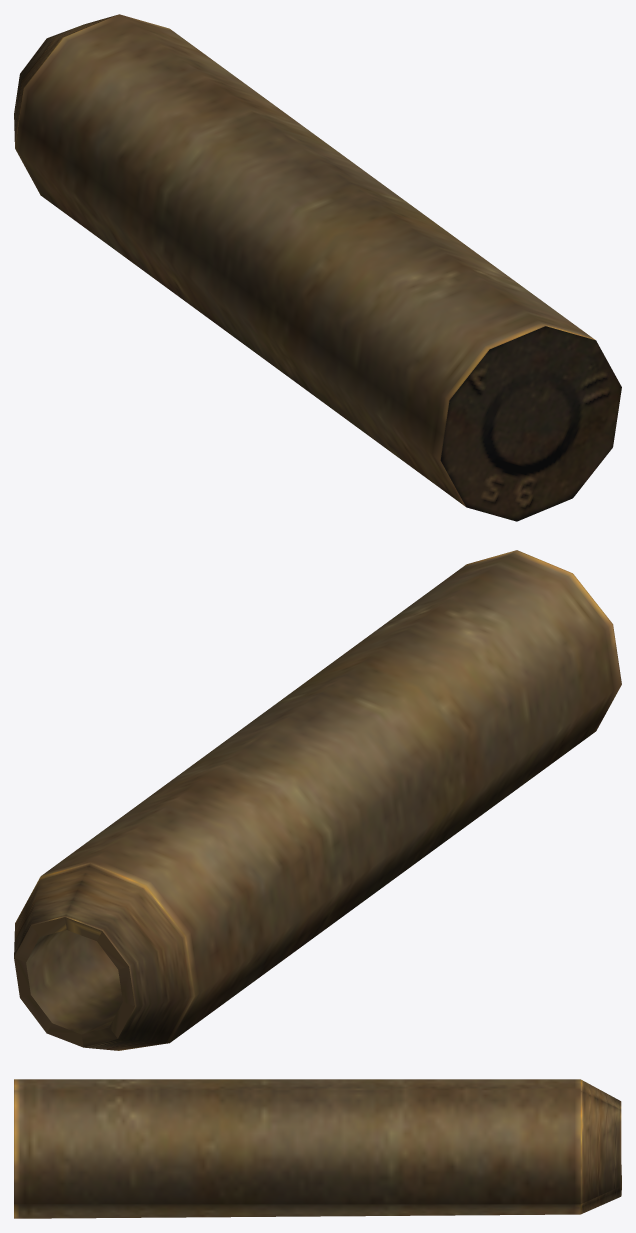
Rendered from AR_Brass.FBX.
3 renders of one model, top to bottom at view 1: azimuth 30°, elevation 25°; view 2: azimuth 150°, elevation 25°; view 3: azimuth 270°, elevation 25°, orthographic. The views are drawn at different scales.
Visible parts, largest first — view 1: AR_Brass; view 2: AR_Brass; view 3: AR_Brass.
Boxes of the visible parts, x1=… form: AR_Brass: x1=14, y1=14, x2=621, y2=521; AR_Brass: x1=14, y1=550, x2=621, y2=1050; AR_Brass: x1=14, y1=1079, x2=621, y2=1218.
Bounding box in the file's own units: 1.46 × 1.45 × 6.39.
